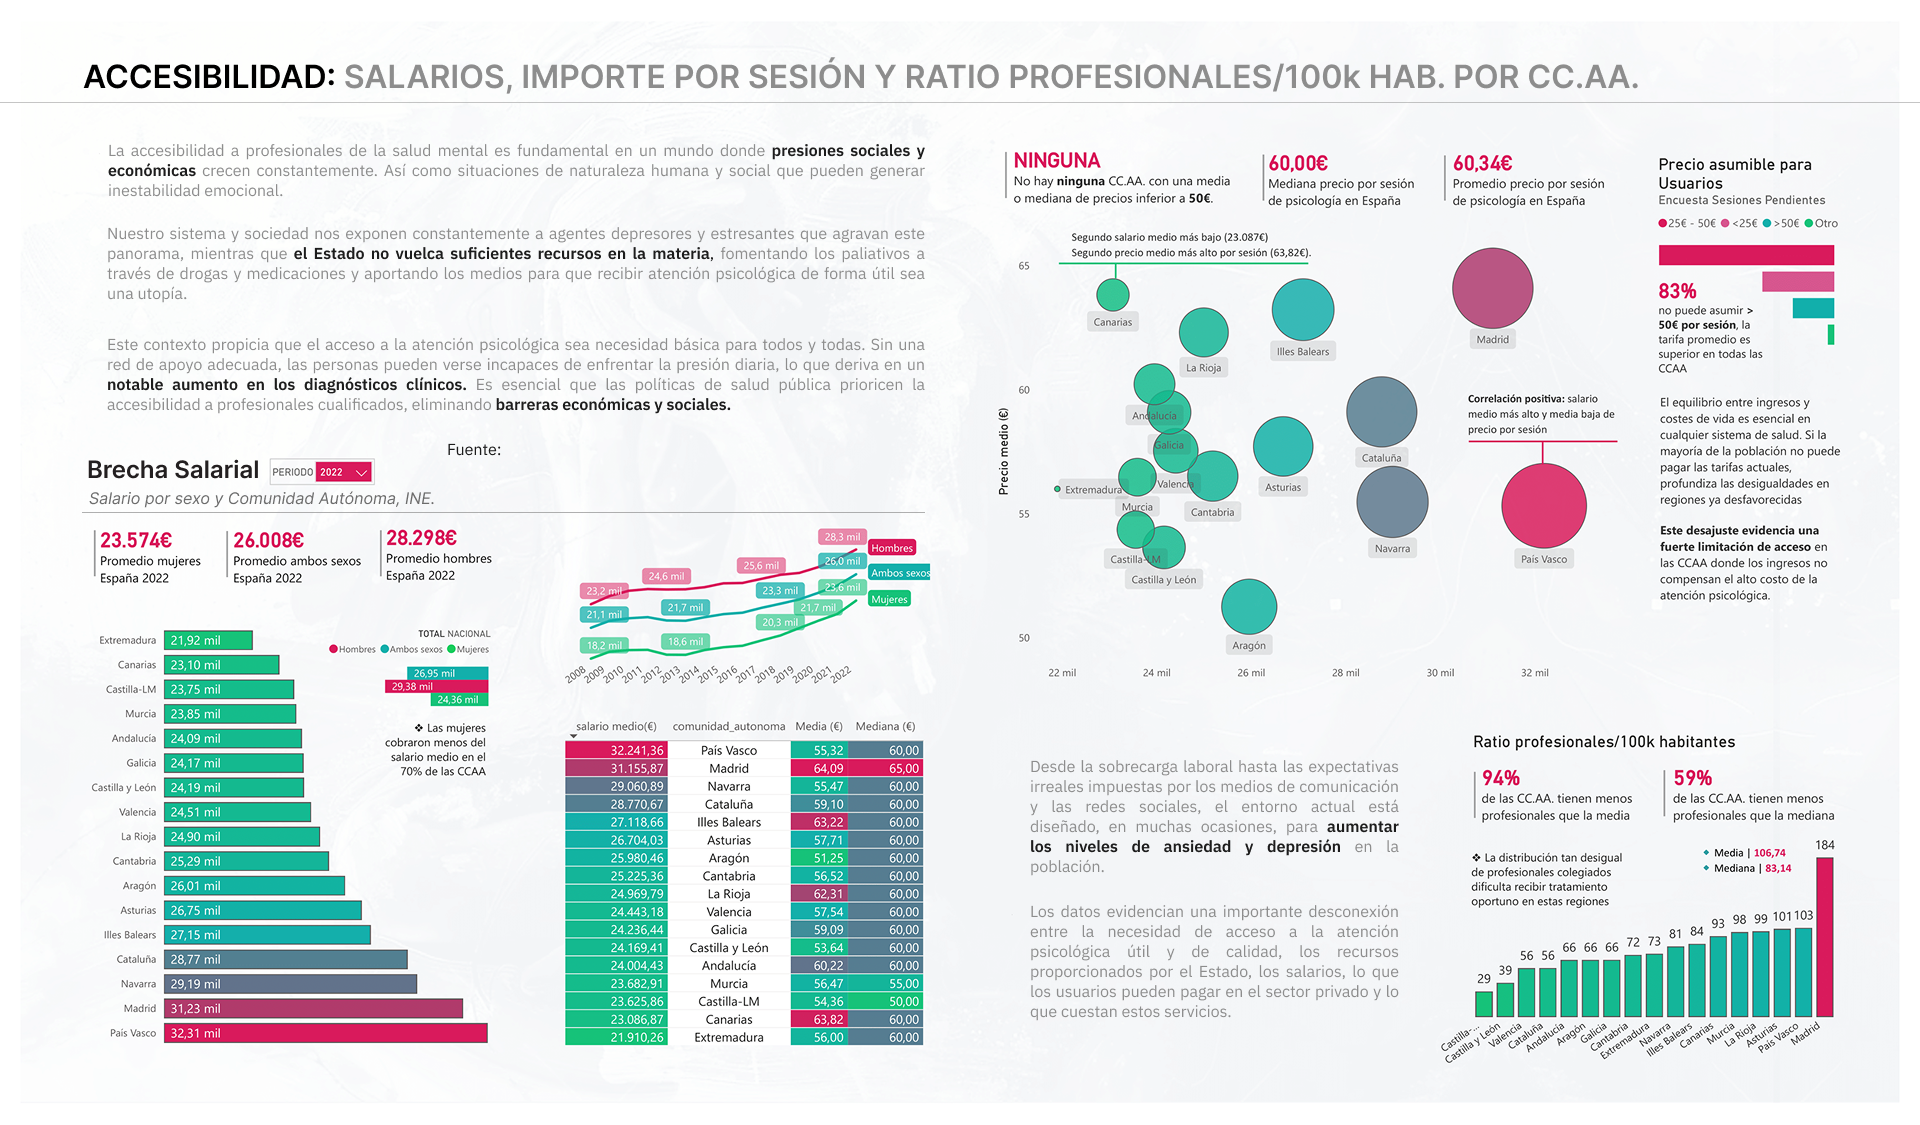

This screenshot's page, from the dashboard's own definition file:
{"tool":"powerbi","page":{"name":"A4_Good","canvas":[1080,1529],"ordinal":0},"visuals":[{"type":"scatterChart","title":"Salario promedio y precio promedio sesión  por Comunidad Autónoma","fields":{"Size":["Avg(salarios.Suma de Importe €)"],"Y":["doctoralia.precio_avg"],"Category":["doctoralia.comunidad_autonoma"],"X":["salarios.Ambos_Sexos_2022"]},"box":[49.7,593,985,567.5],"z":0},{"type":"tableEx","fields":{"Values":["doctoralia.comunidad_autonoma","doctoralia.precio_avg","doctoralia.precio_mediana"]},"box":[51,766.8,320,403.8],"z":1000},{"type":"textbox","box":[48,166,520,360],"z":2000},{"type":"textbox","box":[731.7,1192,304,294],"z":3000},{"type":"donutChart","title":"Sesión económicamente asumible para Usuarios","fields":{"Y":["CountNonNull(Hoja1 (2).Column2)"],"Category":["Hoja1 (2).Column2"]},"box":[1,614.2,356.2,172.5],"z":4000},{"type":"textbox","box":[588.4,156.1,465,366.7],"z":5000},{"type":"textbox","box":[48,556,626,54],"z":6000},{"type":"textbox","box":[50.3,1194.2,307.5,313.8],"z":7000},{"type":"textbox","box":[390.1,1194.2,310,291.8],"z":8000},{"type":"textbox","box":[612,436,416,90],"z":9000},{"type":"columnChart","title":"RATIO PROFESIONALES/100k HABITANTES","fields":{"Category":["Hoja1.ccaa"],"Y":["Hoja1.Psicólogos por 100k"]},"box":[605.9,167.9,434.3,267.1],"z":10000},{"type":"textbox","box":[821,212.5,202.5,100],"z":11000},{"type":"textbox","box":[46,98,870,36],"z":12000},{"type":"textbox","box":[56.5,590.8,280,47],"z":13000}]}

Visuals, with their boxes on the page's 1080x1529 design canvas (x1, y1, x2, y2). These are canvas units, not pixel positions in the 1920x1125 screenshot, which may show the page scaled, cropped or inside an application window:
"Salario promedio y precio promedio sesión  por Comunidad Autónoma" scatterChart: (50,593,1035,1160)
tableEx - doctoralia.comunidad_autonoma x doctoralia.precio_avg: (51,767,371,1171)
textbox: (48,166,568,526)
textbox: (732,1192,1036,1486)
"Sesión económicamente asumible para Usuarios" donutChart: (1,614,357,787)
textbox: (588,156,1053,523)
textbox: (48,556,674,610)
textbox: (50,1194,358,1508)
textbox: (390,1194,700,1486)
textbox: (612,436,1028,526)
"RATIO PROFESIONALES/100k HABITANTES" columnChart: (606,168,1040,435)
textbox: (821,212,1024,312)
textbox: (46,98,916,134)
textbox: (56,591,336,638)
